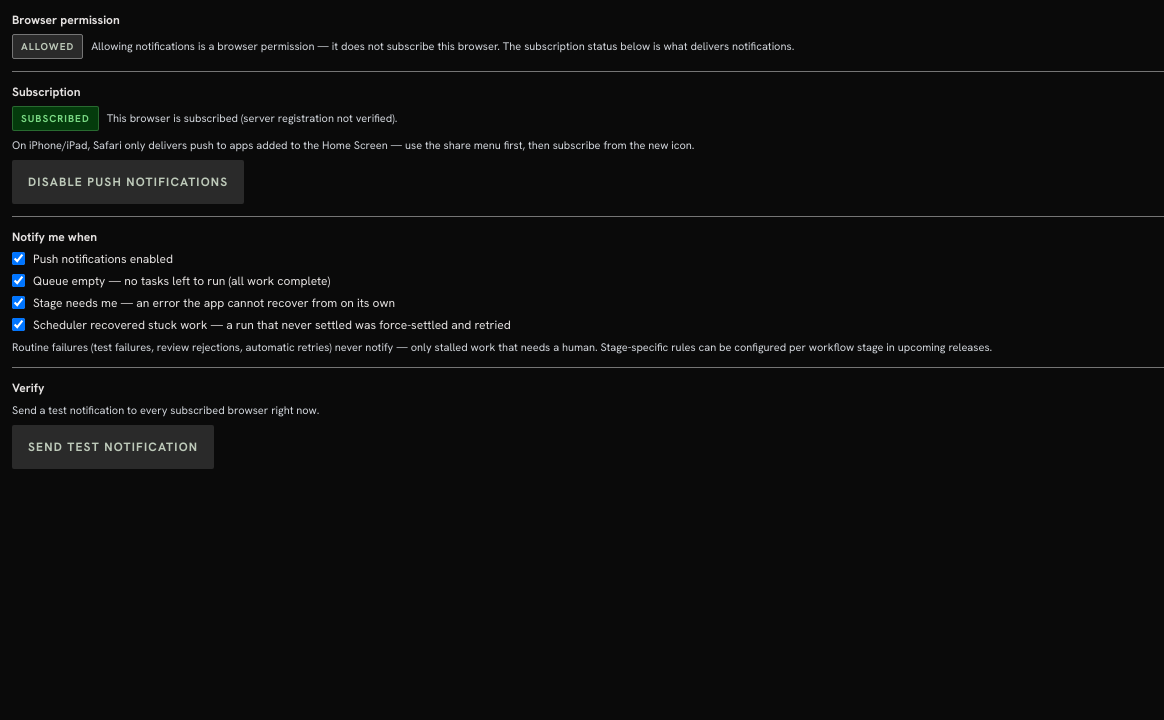
Test: disable button unsubscribes user and confirms
Click the button "Disable push notifications" at (128, 182), box [12,160,244,204]
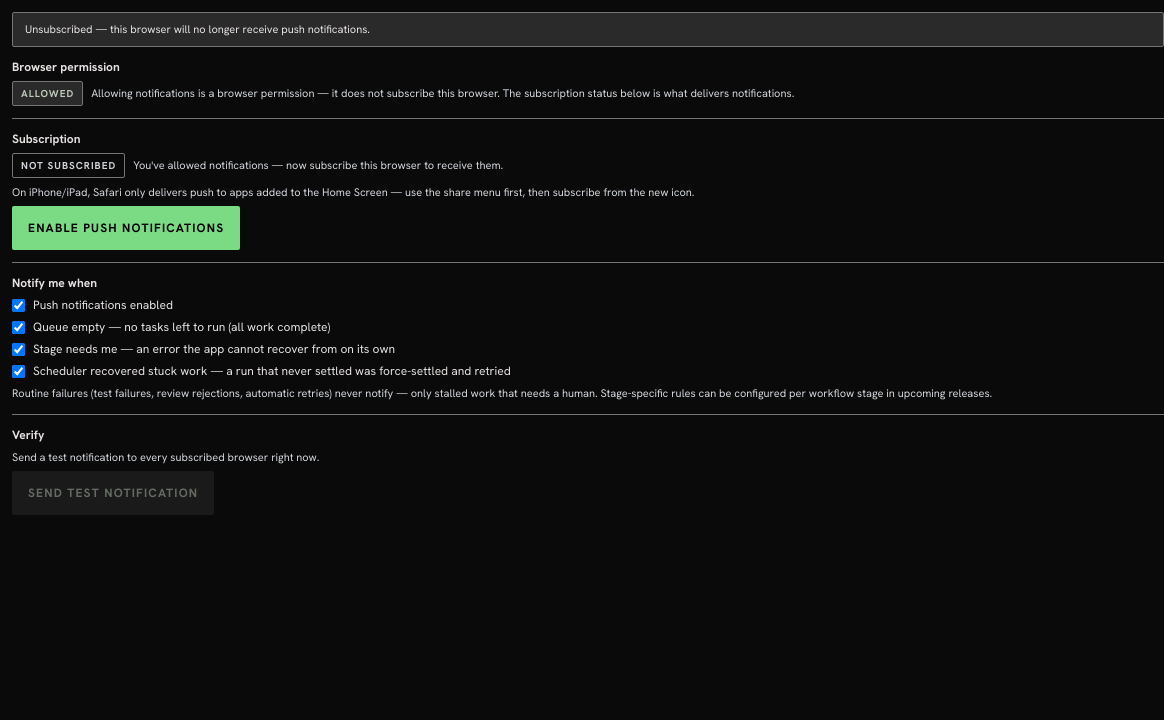
Result: the text "Unsubscribed — this browser will no longer receive push notifications." is shown at [12,12,1163,46]
